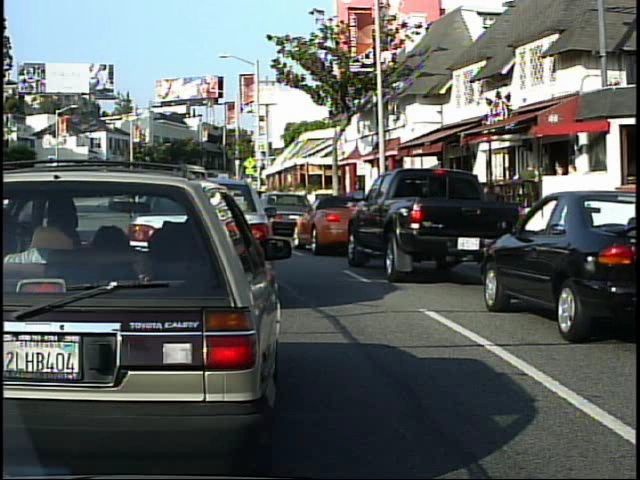person: (546, 150, 574, 220), (516, 154, 542, 221)
